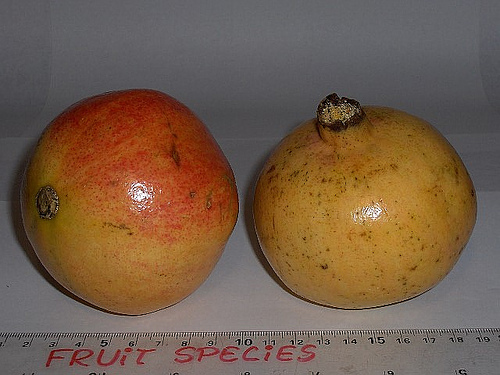pomogranate: (19, 87, 241, 317), (249, 91, 479, 310)
